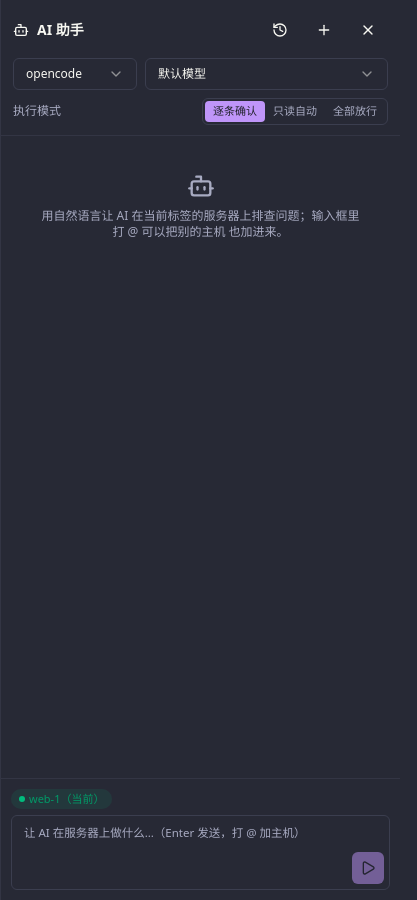
Test: AI 文字按 Markdown 排版 › AI 的回复渲染成标题 / 加粗 / 表格；用户自己发的消息仍是纯文本
Click the button titled "新对话" at (324, 30), box [304, 10, 344, 50]
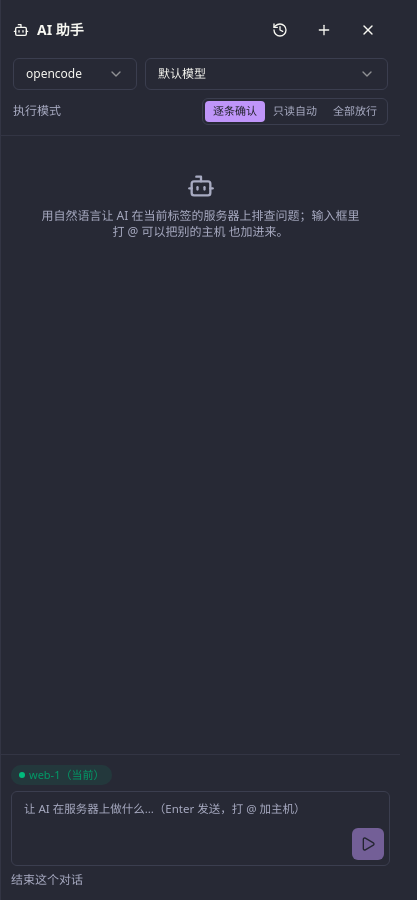
Type "**不是粗体** <b>x</b>" into the text box with placeholder "让 AI 在服务器上做什么…（Enter 发送，打 @ 加主机）" at (200, 828), box [11, 791, 390, 866]
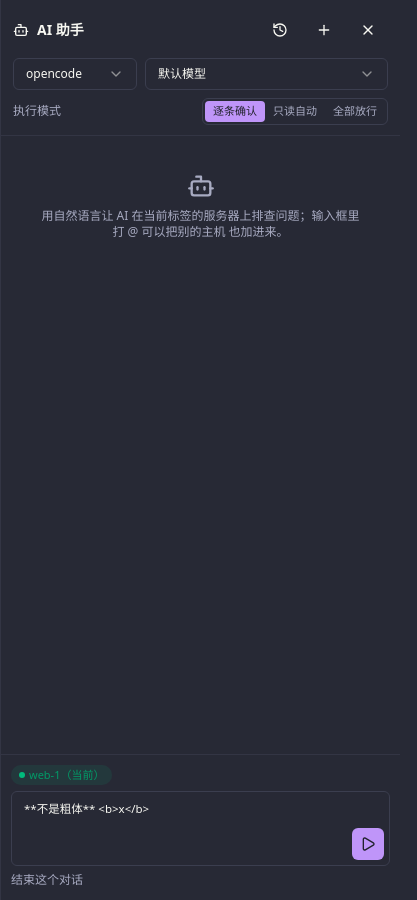
Click the button titled "发送" at (368, 844), box [352, 828, 384, 860]
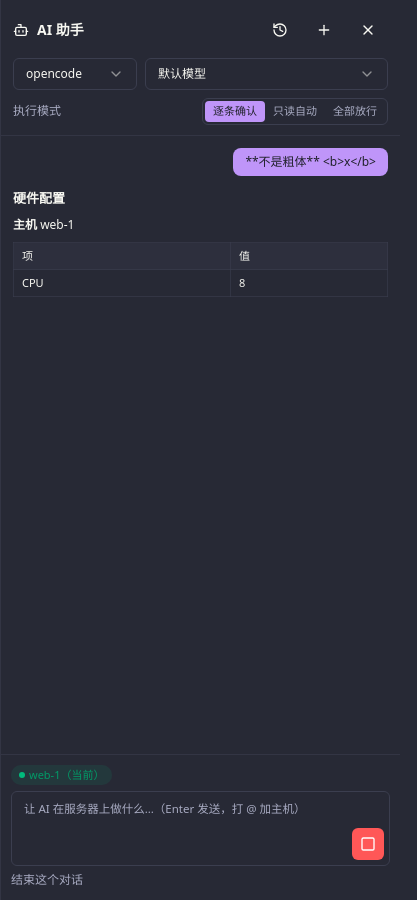
Expected: the text "主机" is shown, [13, 216, 37, 233]
Expected: the heading "硬件配置" is shown, [13, 188, 65, 206]
Expected: the table is shown, [13, 242, 388, 297]
